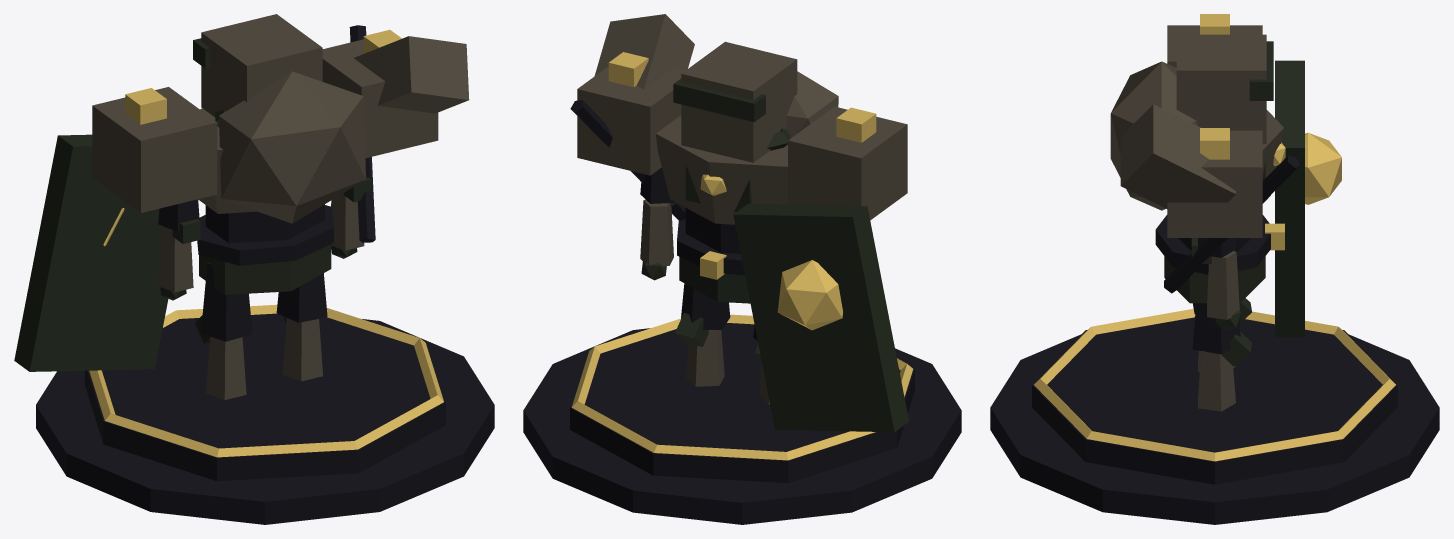
The model's file is colossus.glb.
3 renders of one model, left to right at view 1: azimuth 30°, elevation 25°; view 2: azimuth 150°, elevation 25°; view 3: azimuth 270°, elevation 25°, orthographic. The views are drawn at different scales.
Parts seen in each view (by area): view 1: Pedestal_Top_6.0, Pedestal_Base_6.0, Cube.061, Icosphere.021, Cube.054, Cube.058, Cube.062, Pedestal_RuneRing_6.0, Cube.056, Balthazar_Pelvis, Cylinder.022, Cylinder.023 (+10 smaller); view 2: Cube.061, Pedestal_Base_6.0, Pedestal_Top_6.0, Cube.054, Cube.058, Cube.056, Balthazar_Chest, Pedestal_RuneRing_6.0, Cube.062, Icosphere.022, Cube.059, Cone.049 (+13 smaller); view 3: Pedestal_Top_6.0, Pedestal_Base_6.0, Cube.058, Cube.062, Cube.061, Pedestal_RuneRing_6.0, Cube.056, Icosphere.021, Icosphere.022, Cylinder.022, Cone.045, Cone.049 (+9 smaller).
Boxes of the visible parts, <box> form: Pedestal_Top_6.0: <box>84,313,445,481</box>; Pedestal_Base_6.0: <box>36,319,494,524</box>; Cube.061: <box>14,134,168,371</box>; Icosphere.021: <box>219,71,365,223</box>; Cube.054: <box>92,87,217,212</box>; Cube.058: <box>201,14,322,117</box>; Cube.062: <box>354,36,469,113</box>; Pedestal_RuneRing_6.0: <box>89,304,443,457</box>; Cube.056: <box>322,39,438,158</box>; Balthazar_Pelvis: <box>199,244,331,294</box>; Cylinder.022: <box>197,205,333,265</box>; Cylinder.023: <box>205,204,324,243</box>; Cube.061: <box>733,204,908,432</box>; Pedestal_Base_6.0: <box>523,328,961,524</box>; Pedestal_Top_6.0: <box>570,323,914,483</box>; Cube.054: <box>788,106,907,220</box>; Cube.058: <box>681,41,797,162</box>; Cube.056: <box>577,67,685,175</box>; Balthazar_Chest: <box>656,115,787,224</box>; Pedestal_RuneRing_6.0: <box>571,314,913,460</box>; Cube.062: <box>594,14,694,89</box>; Icosphere.022: <box>777,260,842,330</box>; Cube.059: <box>673,78,765,122</box>; Cone.049: <box>640,199,673,266</box>; Pedestal_Top_6.0: <box>1032,317,1397,484</box>; Pedestal_Base_6.0: <box>990,334,1439,524</box>; Cube.058: <box>1176,34,1266,143</box>; Cube.062: <box>1120,104,1235,208</box>; Cube.061: <box>1275,60,1304,337</box>; Pedestal_RuneRing_6.0: <box>1034,308,1395,461</box>; Cube.056: <box>1167,130,1262,237</box>; Icosphere.021: <box>1110,61,1197,210</box>; Icosphere.022: <box>1305,132,1341,204</box>; Cylinder.022: <box>1155,215,1270,274</box>; Cone.045: <box>1198,351,1235,411</box>; Cone.049: <box>1207,251,1239,319</box>.
Bounding box in the file's own units: 2.74 × 2.52 × 2.7.
